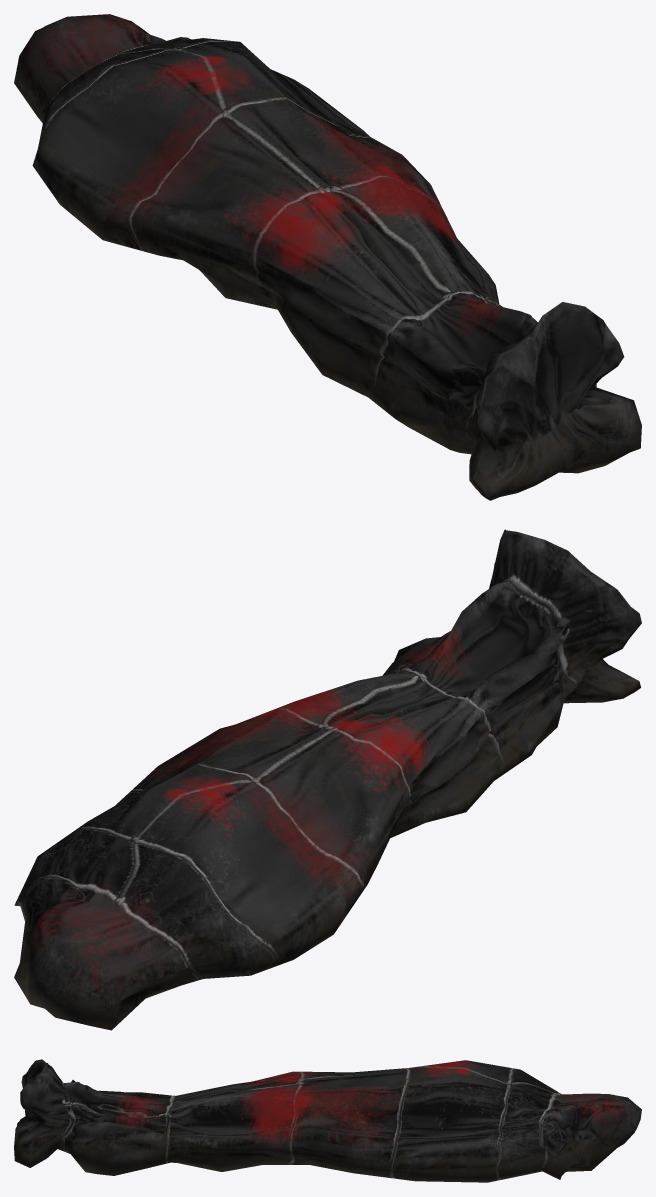
File: Corpse Covered.FBX
3 renders of one model, top to bottom at view 1: azimuth 30°, elevation 25°; view 2: azimuth 150°, elevation 25°; view 3: azimuth 270°, elevation 25°, orthographic. The views are drawn at different scales.
Parts seen in each view (by area): view 1: CorpseCovered; view 2: CorpseCovered; view 3: CorpseCovered.
Part boxes in pixels (x1,y1,x2,y2): CorpseCovered: [14, 14, 641, 500]; CorpseCovered: [14, 529, 641, 1030]; CorpseCovered: [14, 1059, 641, 1182].
Size of the model in its own units: 70.71 by 41.36 by 239.
1 material, 1 textured.
